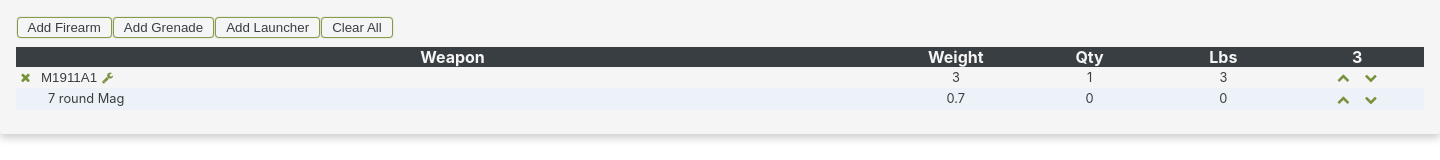
weapons card intergration tests › selecting firearms › should be possible to delete a gun
Click the button with class "button--close": (26, 77) 18,69 -> 34,85
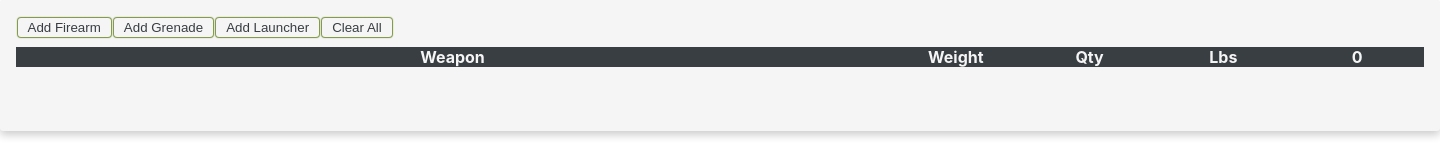
Expected: the text "M1911A1" is gone
